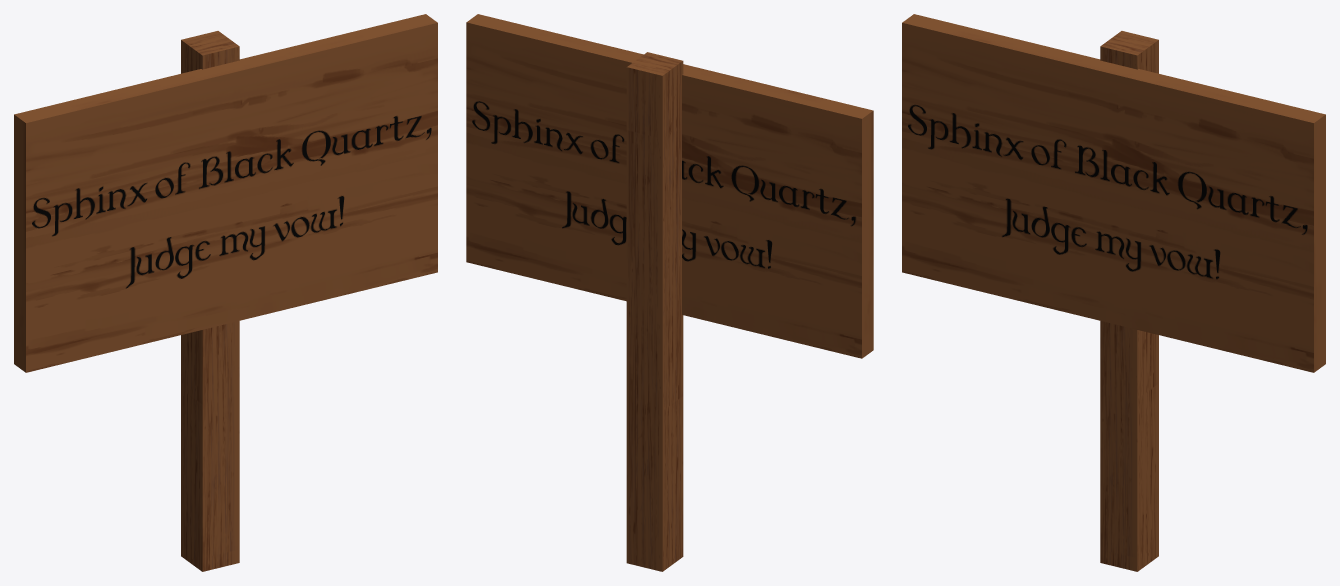
Rendered from Sign.fbx.
The picture shows the model from 3 angles, left to right: view 1: azimuth 30°, elevation 25°; view 2: azimuth 150°, elevation 25°; view 3: azimuth 330°, elevation 25°; orthographic projection. The views are drawn at different scales.
Parts seen in each view (by area): view 1: Sign, Post; view 2: Sign, Post; view 3: Sign, Post.
Boxes of the visible parts, x1,y1,x2,y2 form: Sign: (14,14,437,372); Post: (181,31,239,571); Sign: (466,14,873,358); Post: (626,52,683,571); Sign: (902,14,1325,372); Post: (1100,31,1158,571).
Bounding box in the file's own units: 166 × 199 × 22.58.
1 material, 1 textured.
